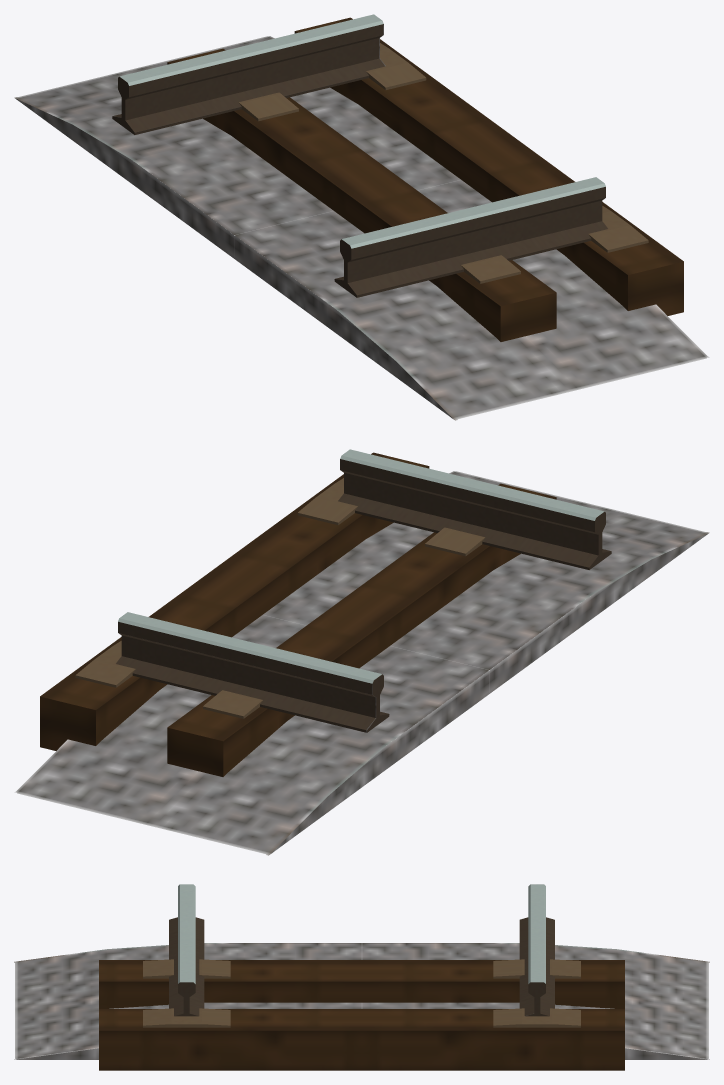
Rendered from atsf_track_wood_ballast.obj.
The picture shows the model from 3 angles, top to bottom: view 1: azimuth 30°, elevation 25°; view 2: azimuth 150°, elevation 25°; view 3: azimuth 270°, elevation 25°; orthographic projection. The views are drawn at different scales.
Visible parts, largest first — view 1: RAIL_BASE.002, RAIL_BASE, RAIL_LEFT, RAIL_RIGHT, RAIL_BASE.001; view 2: RAIL_BASE.002, RAIL_BASE, RAIL_RIGHT, RAIL_LEFT, RAIL_BASE.001; view 3: RAIL_BASE, RAIL_BASE.002, RAIL_BASE.001, RAIL_LEFT, RAIL_RIGHT.
Part boxes in pixels (x1,y1,x2,y2): RAIL_BASE.002: (14,36,708,420); RAIL_BASE: (167,17,683,341); RAIL_LEFT: (334,177,607,297); RAIL_RIGHT: (112,14,385,134); RAIL_BASE.001: (238,43,648,283); RAIL_BASE.002: (15,471,709,855); RAIL_BASE: (40,452,556,776); RAIL_RIGHT: (116,612,389,732); RAIL_LEFT: (338,449,611,569); RAIL_BASE.001: (75,478,485,718); RAIL_BASE: (99,960,624,1070); RAIL_BASE.002: (14,943,709,1059); RAIL_BASE.001: (143,959,580,1027); RAIL_LEFT: (169,884,204,1016); RAIL_RIGHT: (519,884,554,1016).
Size of the model in its own units: 1.11 by 0.3683 by 3.
Materials: 1 (1 with a texture image).
